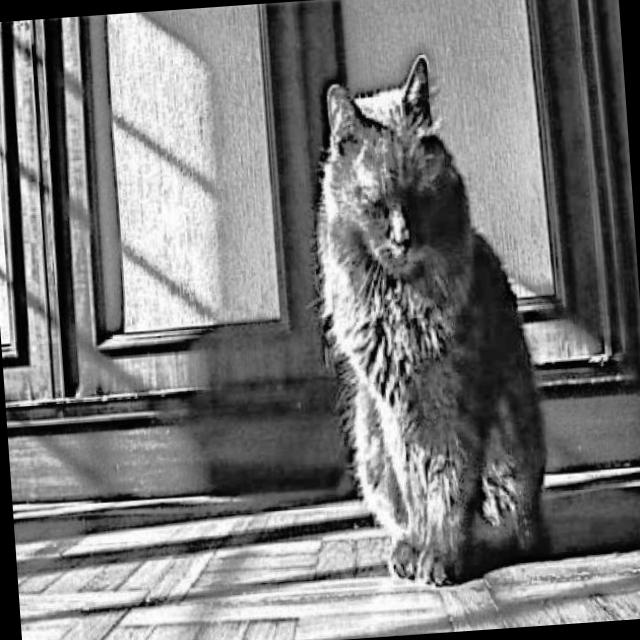Cat: (290, 41, 556, 604)
